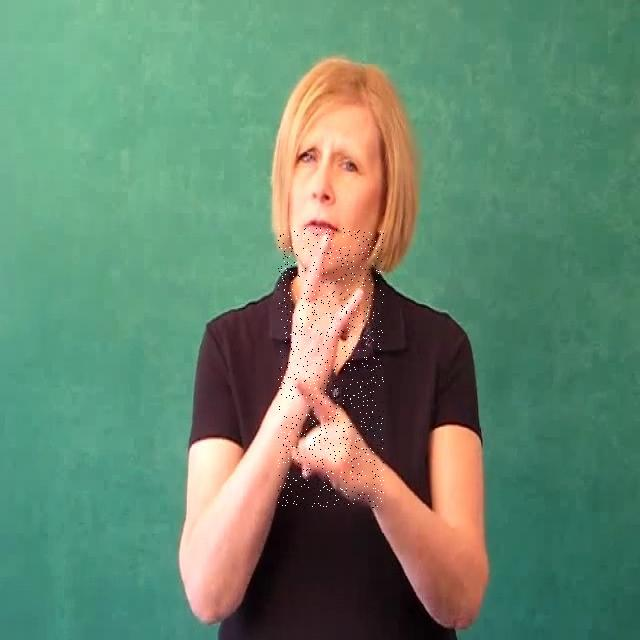alcohol: (278, 228, 384, 508)
